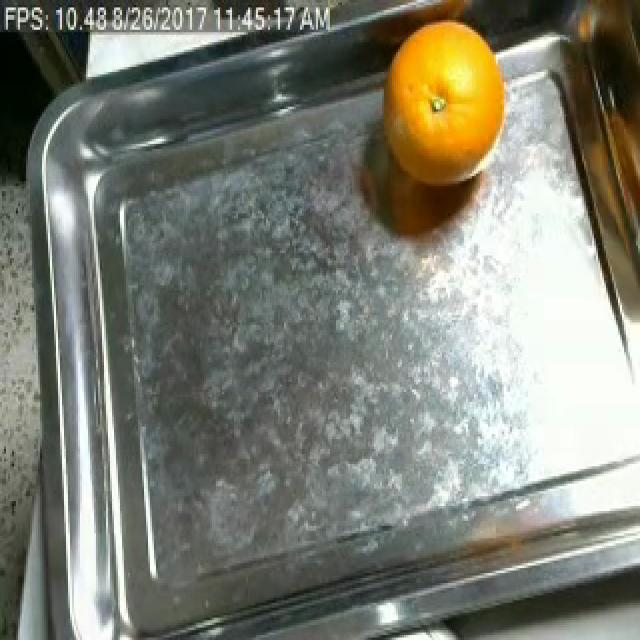Fruit: (356, 2, 528, 206)
